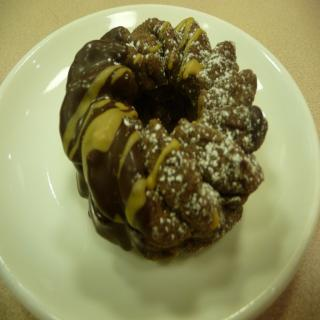Doughnut: (60, 15, 268, 263)
